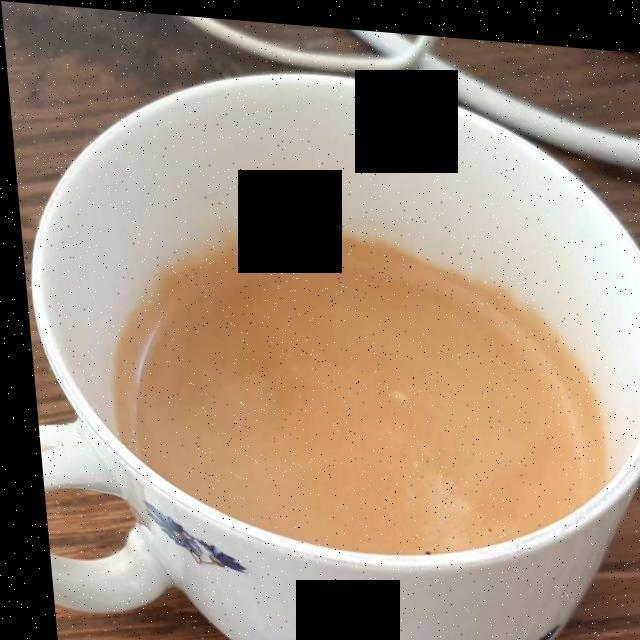coffee: (113, 228, 588, 541)
